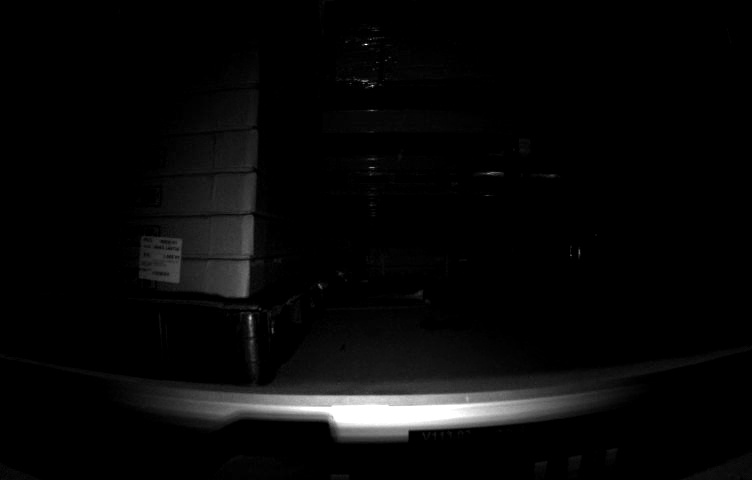True Barcode: (134, 235, 175, 276)
